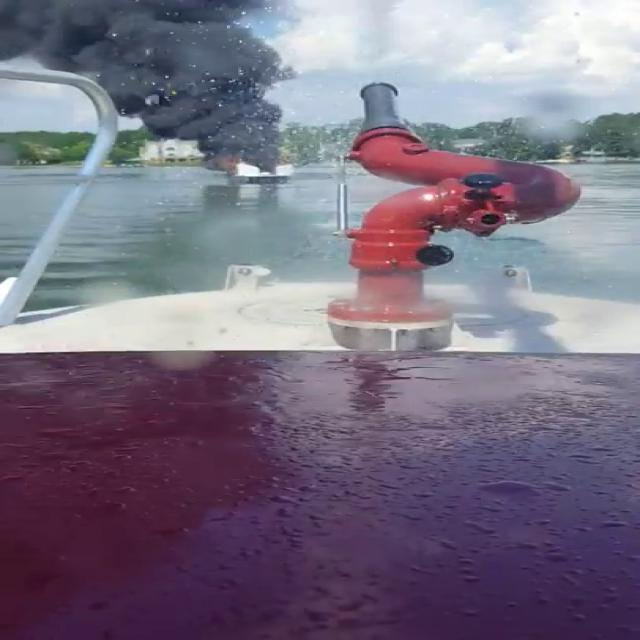Smoke: (0, 0, 296, 175)
